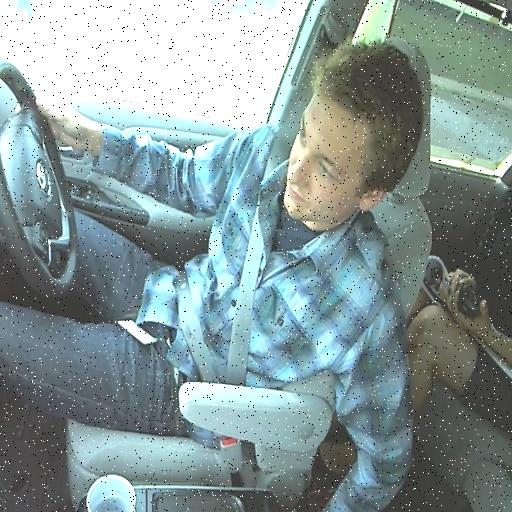turning: (0, 38, 430, 415)
